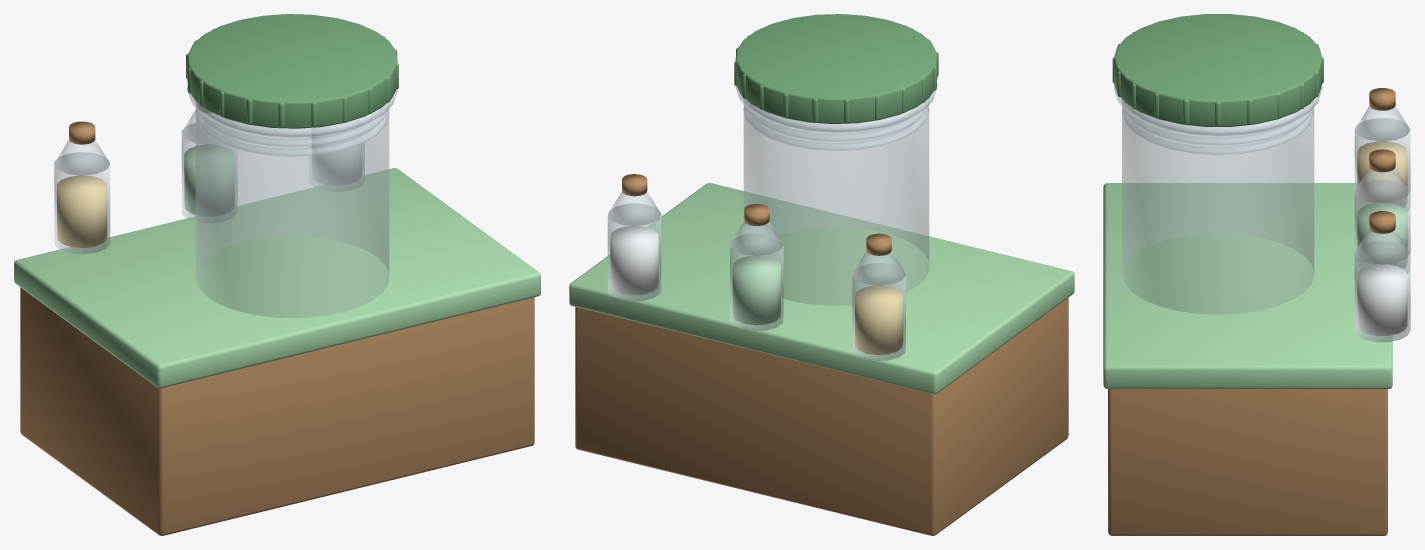
File: PicklingJar.glb
3 renders of one model, left to right at view 1: azimuth 30°, elevation 25°; view 2: azimuth 150°, elevation 25°; view 3: azimuth 270°, elevation 25°, orthographic. The views are drawn at different scales.
Parts seen in each view (by area): view 1: shell, lid, bottle_a, bottle_b, bottle_c; view 2: shell, lid, bottle_c, bottle_b, bottle_a; view 3: shell, lid, bottle_c, bottle_a, bottle_b.
Boxes of the visible parts, x1,y1,x2,y2 form: shell: (14, 87, 540, 535); lid: (186, 14, 398, 128); bottle_a: (54, 121, 110, 254); bottle_b: (181, 103, 237, 222); bottle_c: (309, 119, 364, 191); shell: (569, 84, 1074, 535); lid: (734, 14, 938, 123); bottle_c: (607, 174, 661, 301); bottle_b: (730, 204, 783, 331); bottle_a: (852, 233, 905, 360); shell: (1103, 85, 1392, 535); lid: (1112, 14, 1323, 126); bottle_c: (1354, 211, 1410, 342); bottle_a: (1354, 88, 1410, 212); bottle_b: (1354, 149, 1410, 273).
Bounding box in the file's own units: 2.35 × 2.3 × 1.64.
